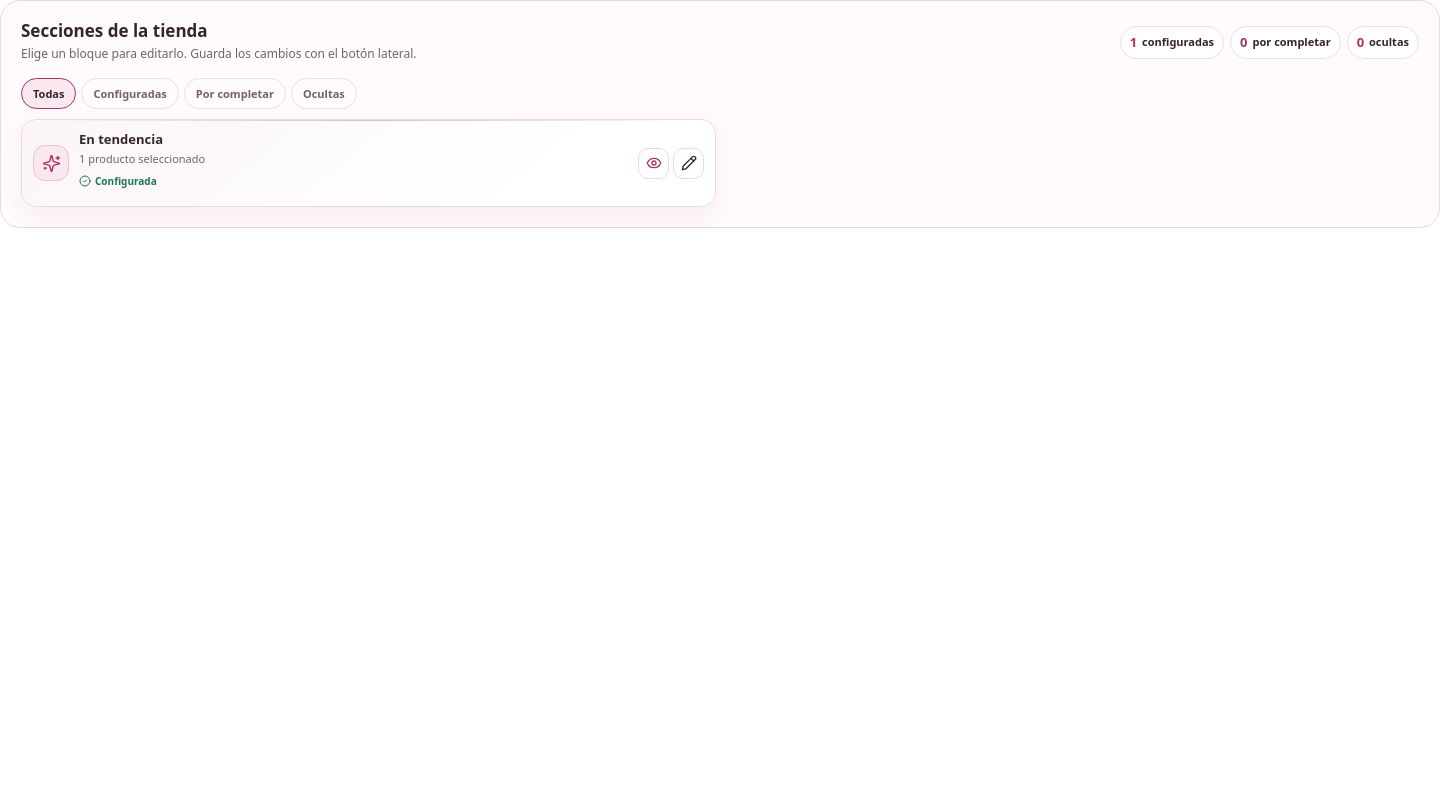
editor de secciones, etapa 3 › muestra la tarjeta guardada en la vista de Tendencia si el catálogo no responde
Click the button named "Editar En tendencia" at (688, 163), box [673, 148, 704, 179]
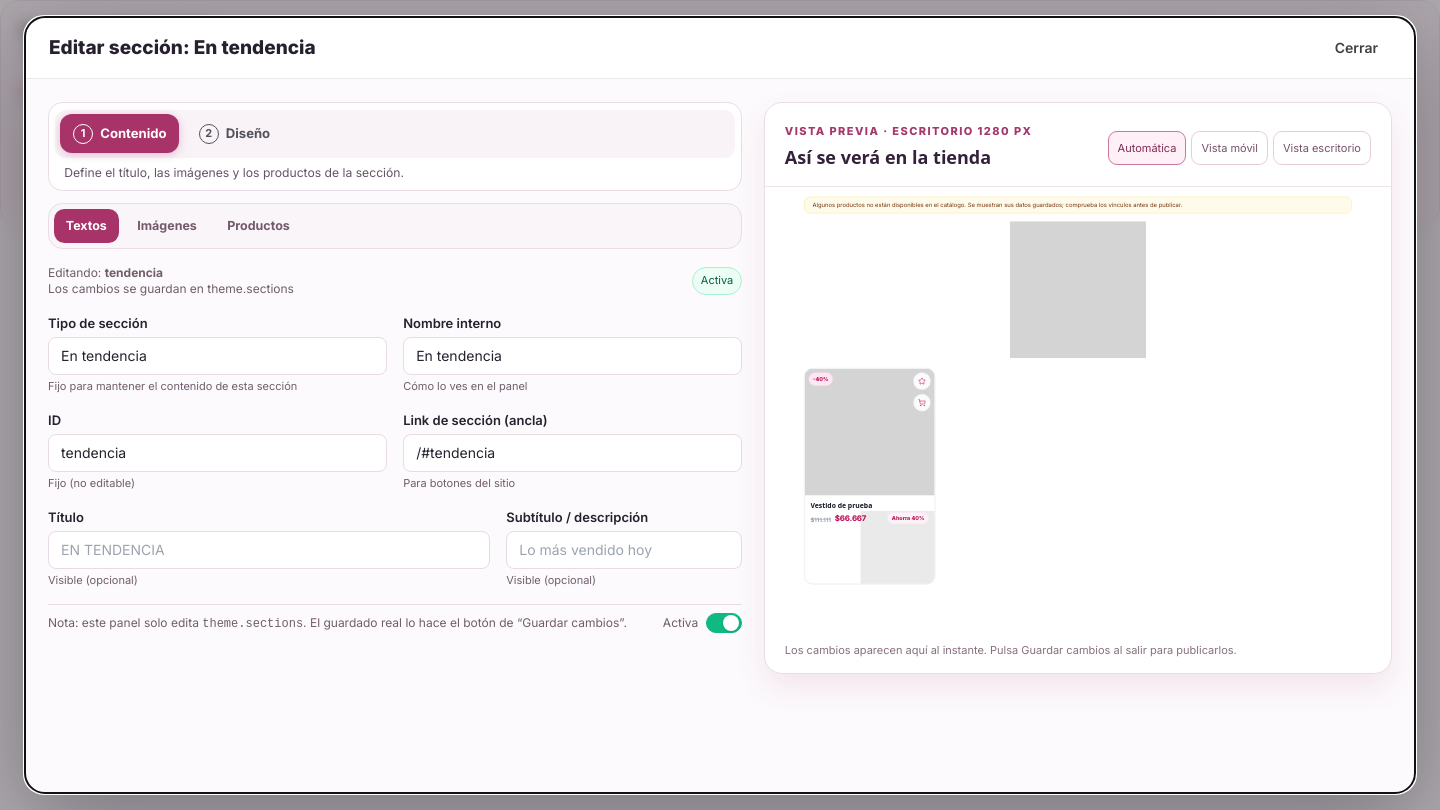
Expected: the heading "Vestido de prueba" is shown, [810, 500, 872, 509]
Expected: the 2nd message shows "no están disponibles en el catálogo", [812, 201, 1182, 208]
